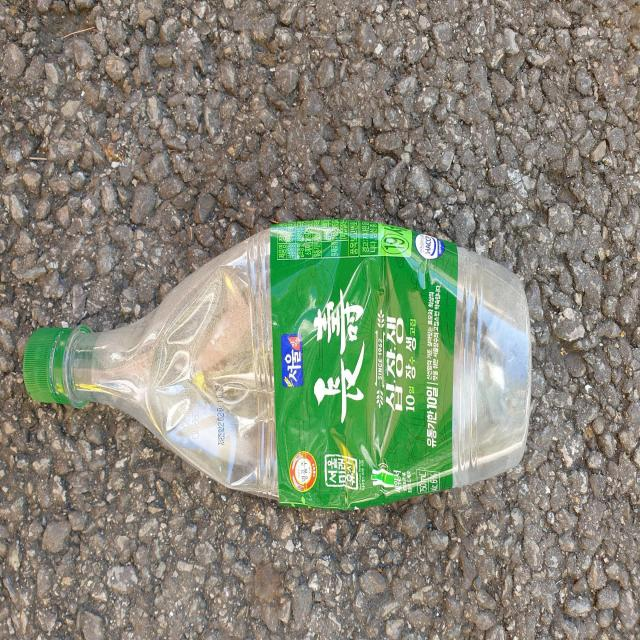plastic: (22, 219, 532, 510)
